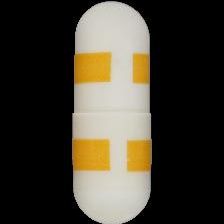50436-7602: (0, 0, 224, 224)
